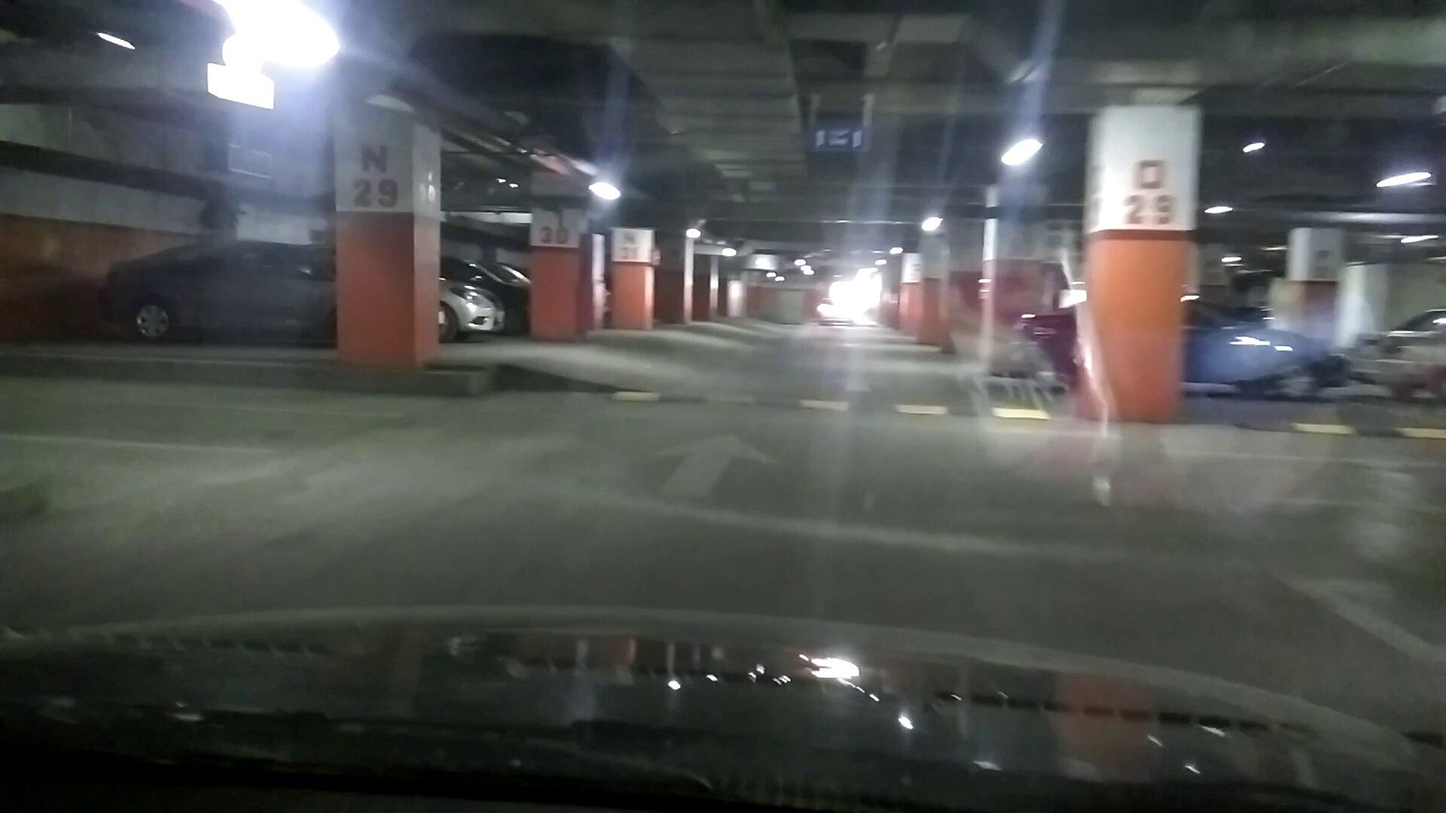Bump: (548, 375, 1075, 427)
